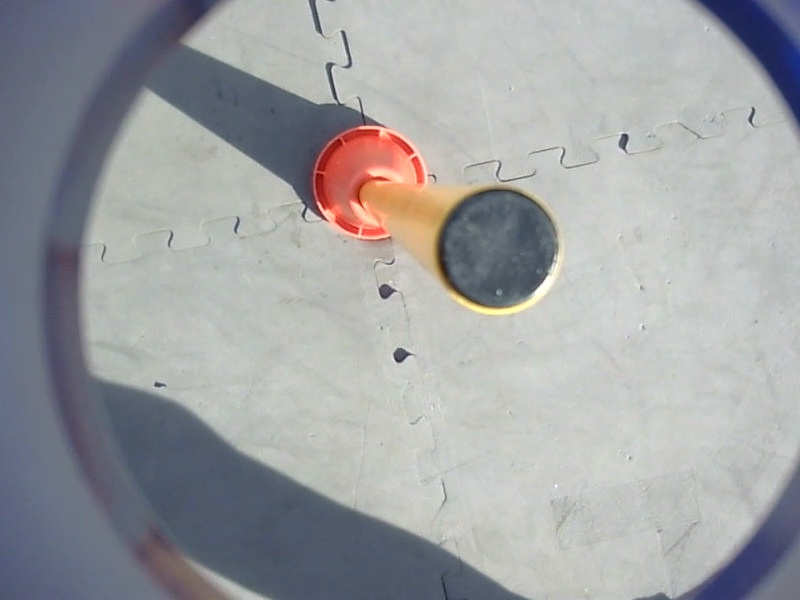tip: (428, 179, 569, 320)
